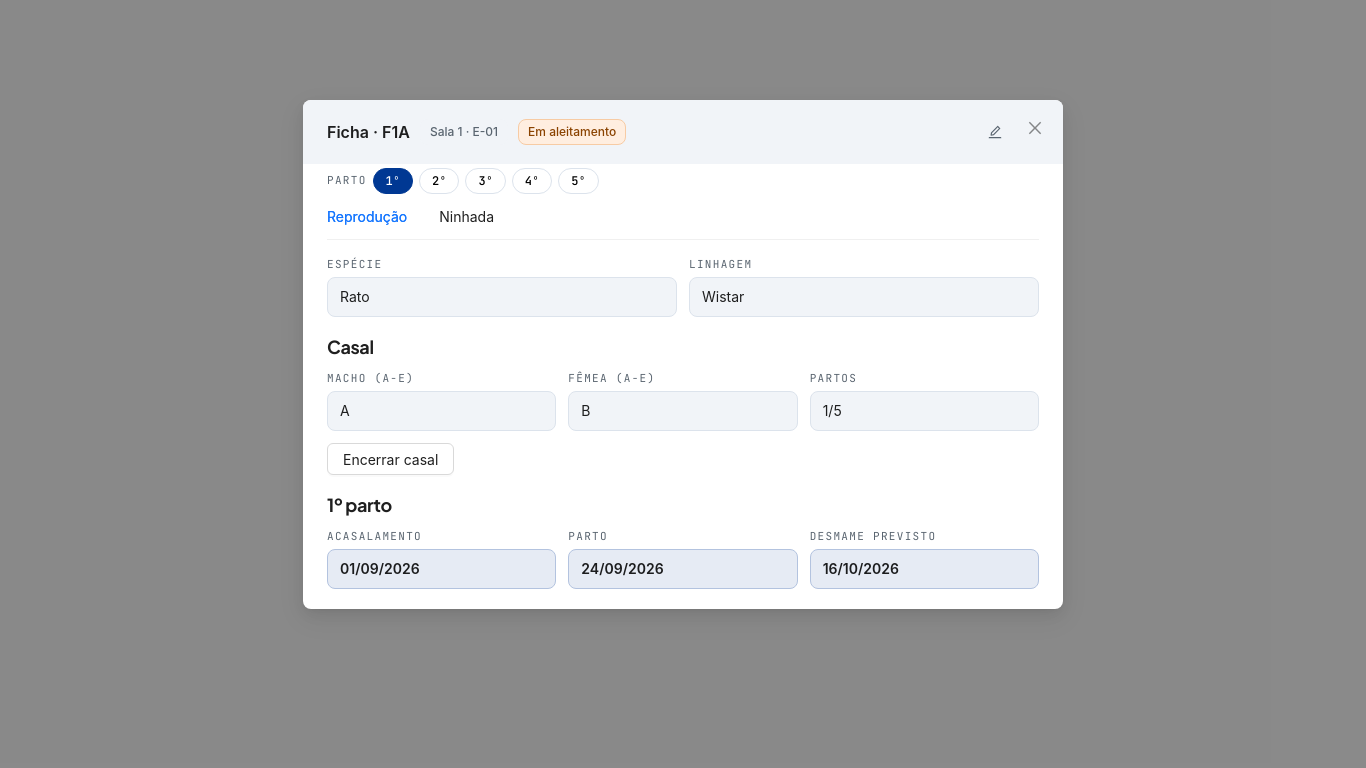
it: formulários da ficha › a regra recusada sem campo mostra o motivo no formulário
The width and height of the screenshot is (1366, 768).
Click the tab "Ninhada".
click(467, 217)  # box [439, 206, 494, 228]
(page scrolled)
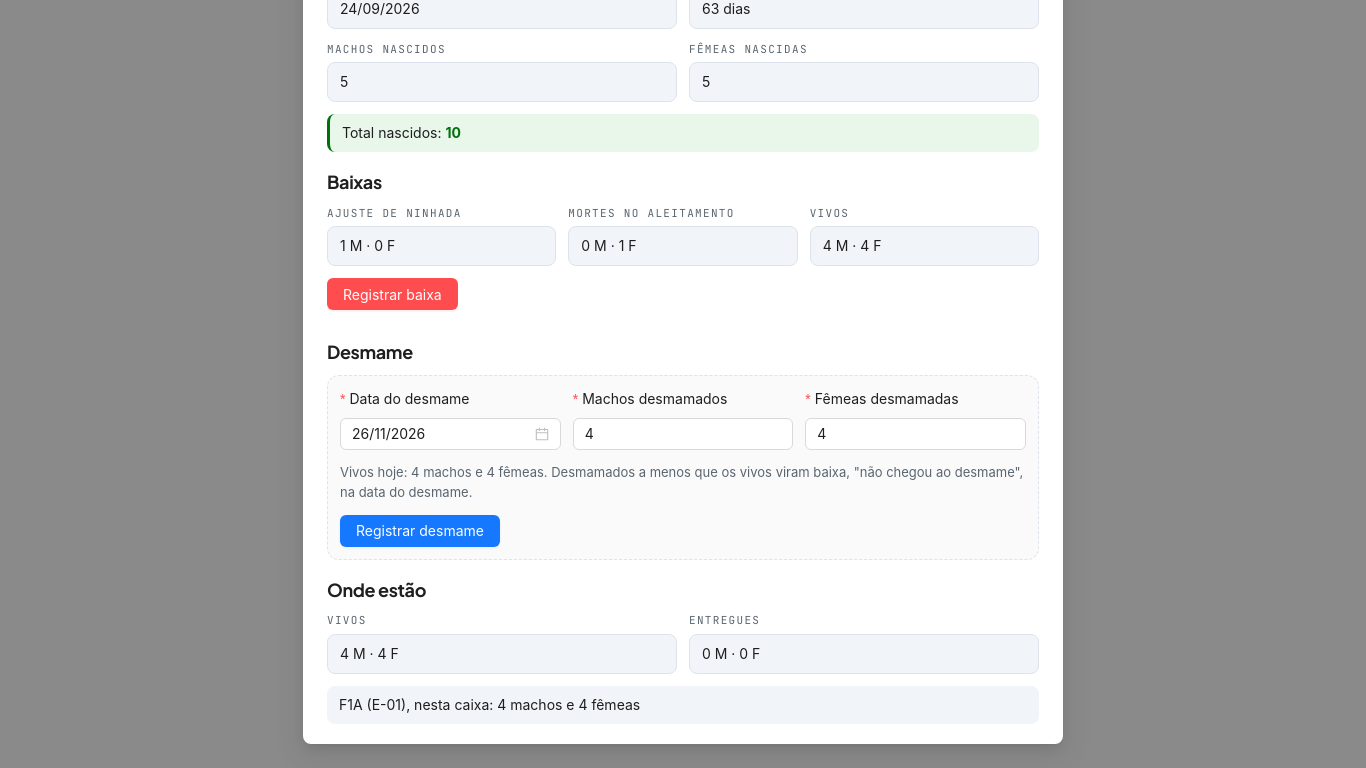
Click the button "Registrar desmame".
click(420, 531)  # box [340, 515, 500, 547]
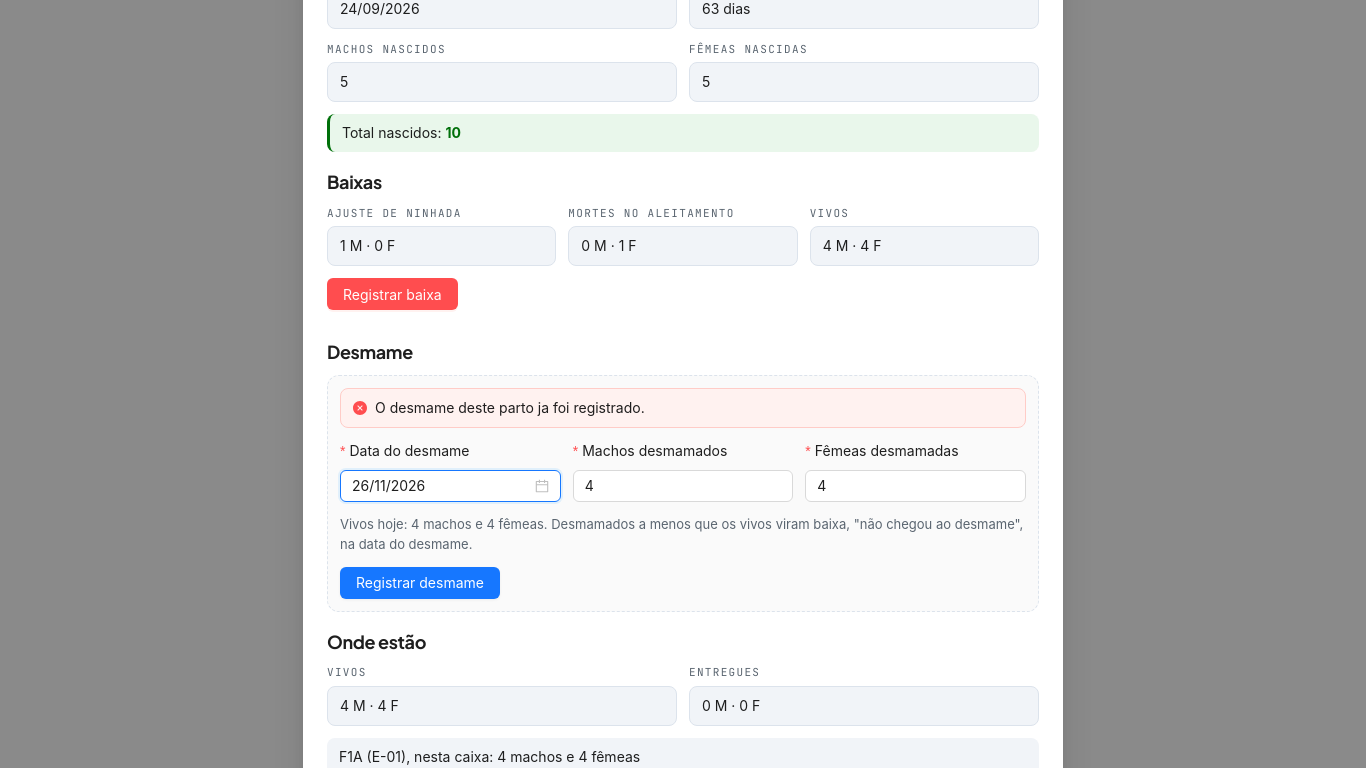
Check: the text "O desmame deste parto ja foi registrado." is shown, box [375, 399, 645, 416]
